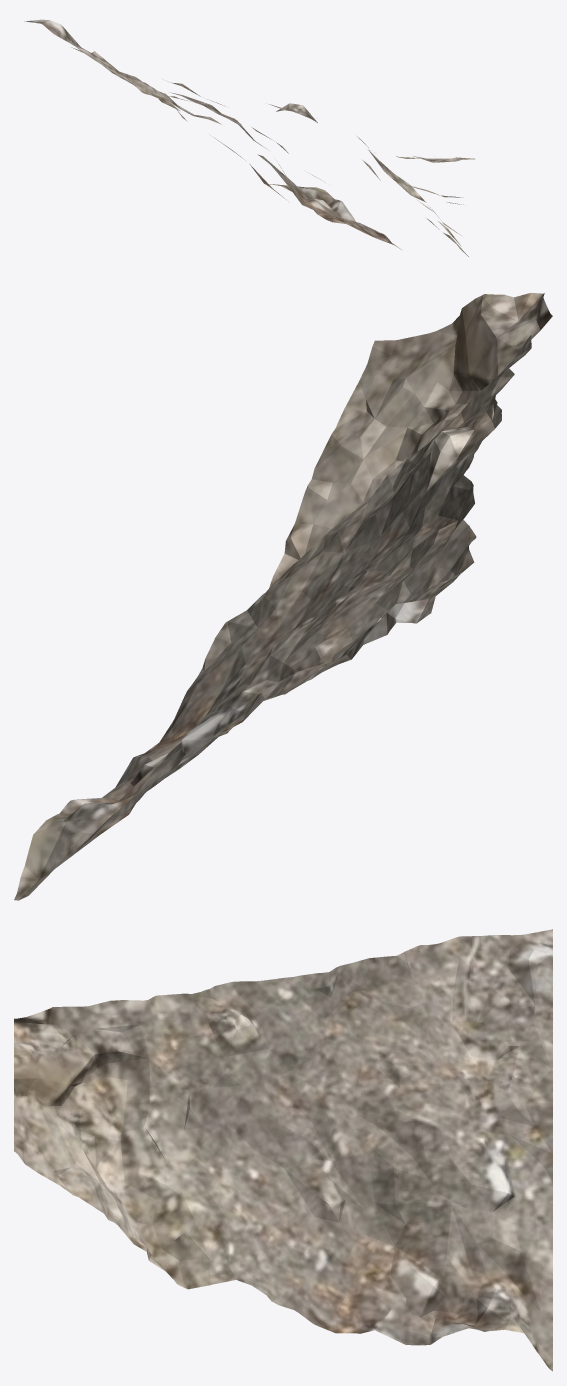
3 views of the same model, one above another, from view 1: azimuth 30°, elevation 25°; view 2: azimuth 150°, elevation 25°; view 3: azimuth 270°, elevation 25° (orthographic). The views are drawn at different scales.
Bounding box in the file's own units: 1.97 × 1.75 × 2.95.
Materials: 2 (2 with a texture image).
